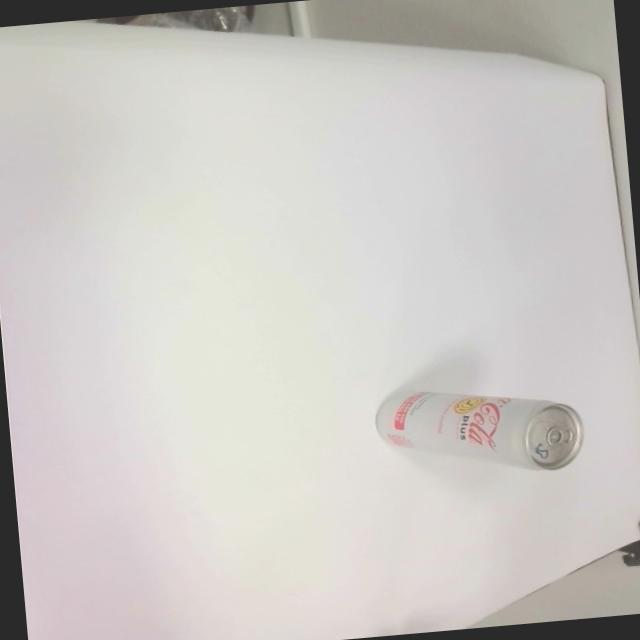debris: (371, 376, 587, 486)
